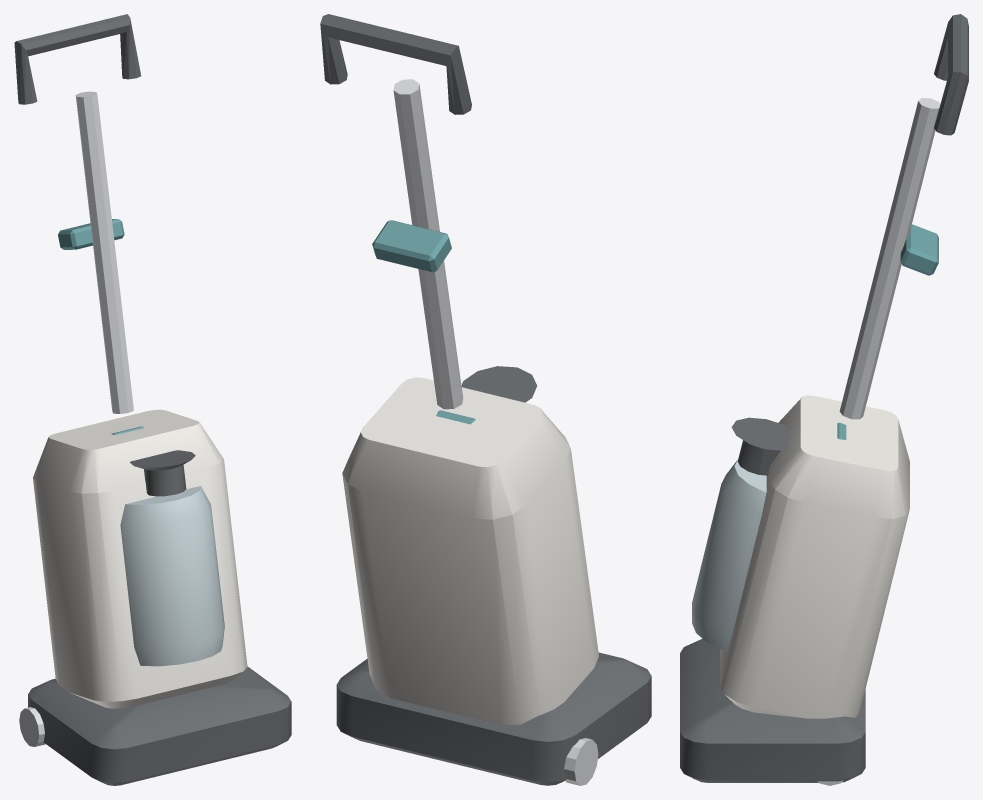
Rendered from hotel-and-resort-operations-upright-vacuum-35c5d23d__25891.glb.
The picture shows the model from 3 angles, left to right: view 1: azimuth 30°, elevation 25°; view 2: azimuth 150°, elevation 25°; view 3: azimuth 270°, elevation 25°; orthographic projection. The views are drawn at different scales.
Parts seen in each view (by area): view 1: upright-vacuum; view 2: upright-vacuum; view 3: upright-vacuum.
Part boxes in pixels (box(x1,y1,x2,y2)): upright-vacuum: box(14, 14, 291, 785); upright-vacuum: box(320, 14, 651, 785); upright-vacuum: box(680, 14, 968, 785).
Size of the model in its own units: 0.35 by 1.07 by 0.4046.
